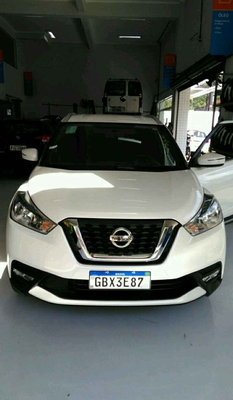Frontal Veiculo: (4, 120, 228, 308)
